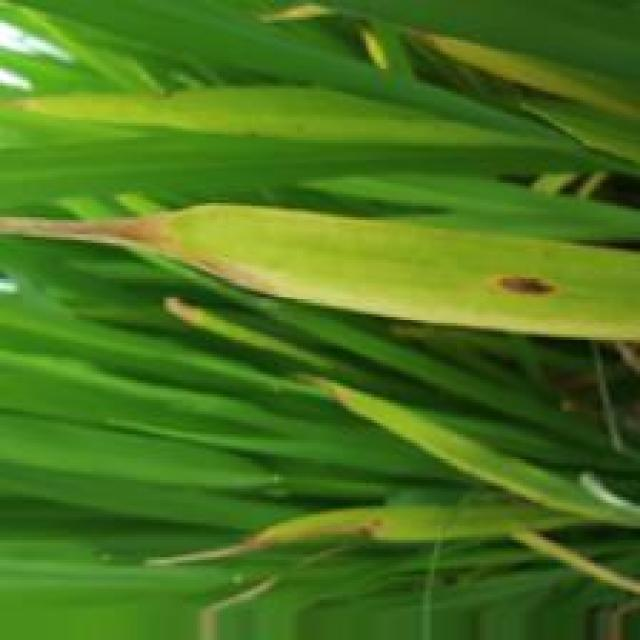Narrow_Brown_Leaf_Spot: (0, 212, 298, 299), (482, 263, 563, 302)
